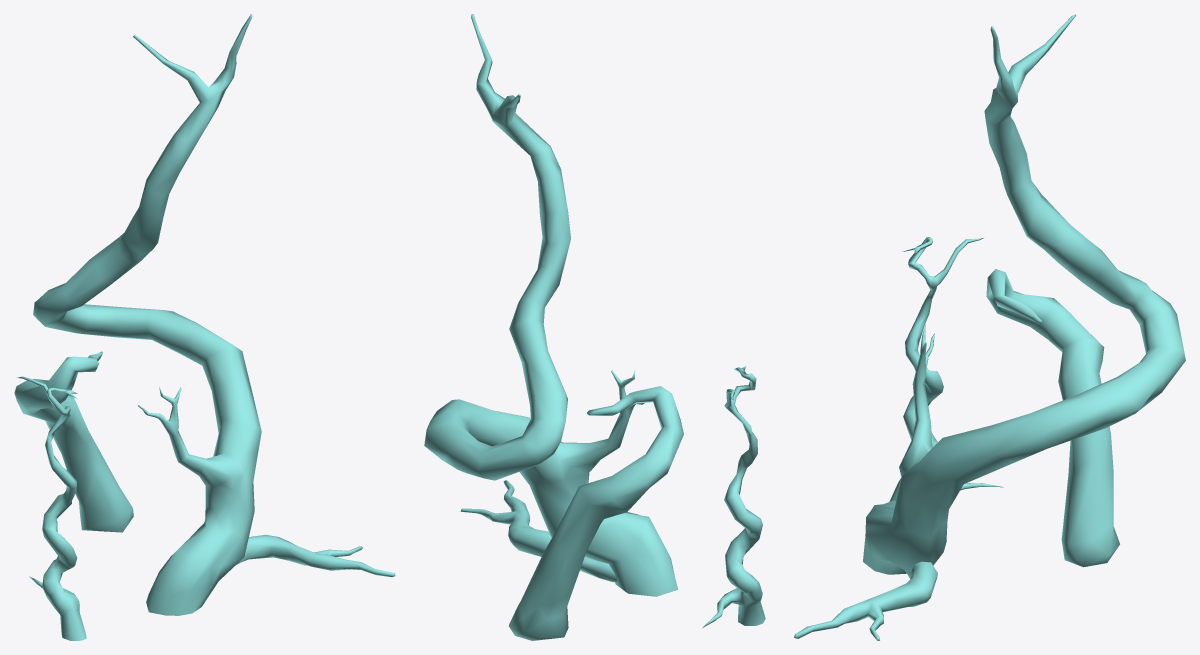
The model's file is Part_3_Tower tree_mesh.fbx.
The picture shows the model from 3 angles, left to right: view 1: azimuth 30°, elevation 25°; view 2: azimuth 150°, elevation 25°; view 3: azimuth 270°, elevation 25°; orthographic projection. The views are drawn at different scales.
Visible parts, largest first — view 1: Part_3_Tower tree_mesh; view 2: Part_3_Tower tree_mesh; view 3: Part_3_Tower tree_mesh.
Boxes of the visible parts, x1=… form: Part_3_Tower tree_mesh: x1=14, y1=14, x2=395, y2=640; Part_3_Tower tree_mesh: x1=424, y1=14, x2=765, y2=640; Part_3_Tower tree_mesh: x1=794, y1=14, x2=1185, y2=640.
Size of the model in its own units: 15.52 by 26.66 by 15.5.
